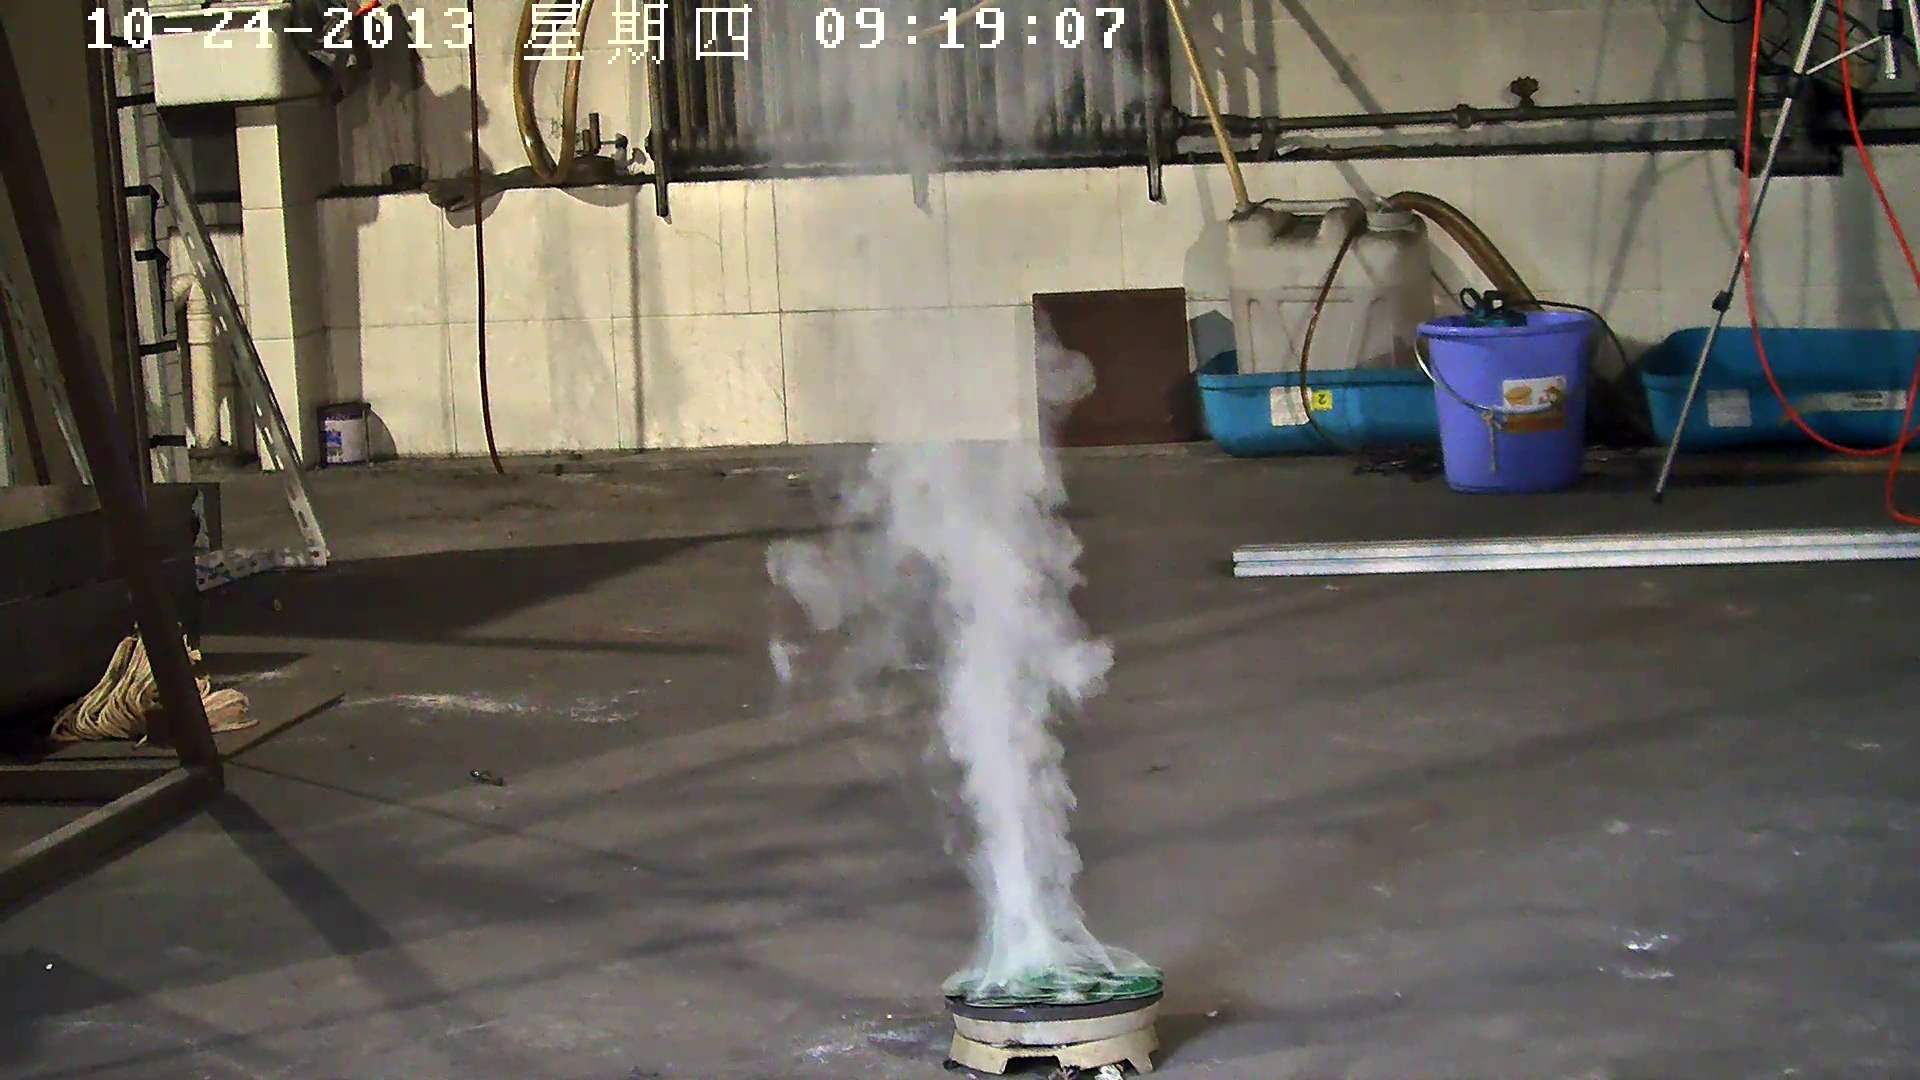smoke: (752, 166, 1160, 1000)
